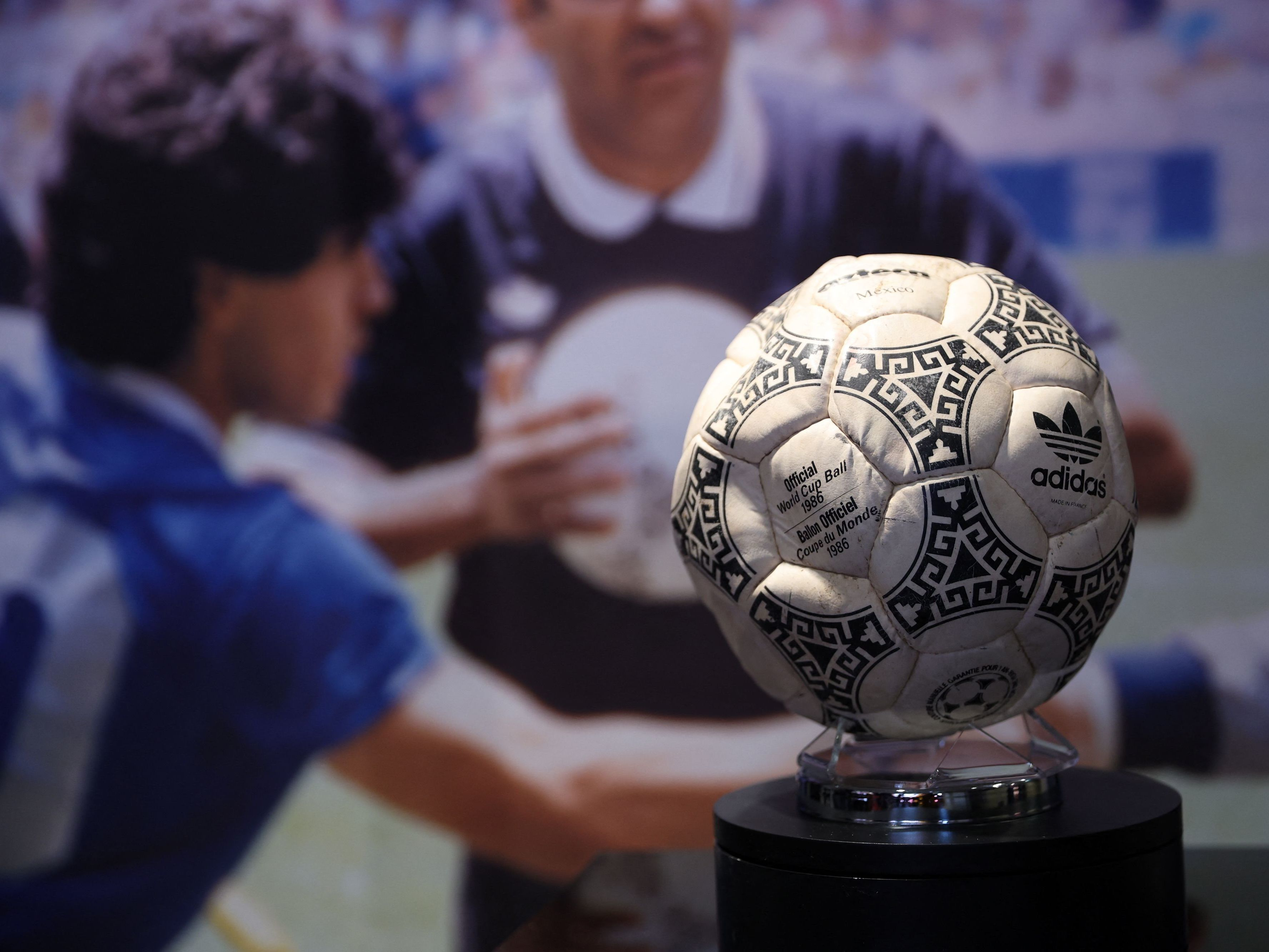sphere: (670, 253, 1138, 743)
